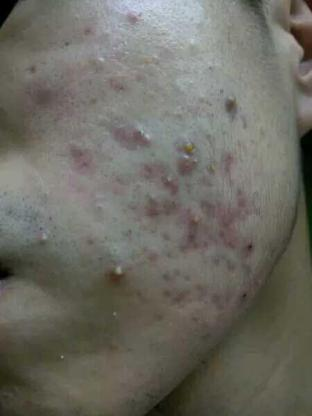Blackheads: (232, 280, 261, 306), (239, 235, 261, 258)
Papules: (217, 85, 248, 114), (177, 132, 204, 157), (184, 209, 204, 235), (204, 156, 223, 178), (158, 171, 178, 191)
pustules: (100, 262, 144, 285), (131, 122, 160, 150), (30, 228, 58, 249)
